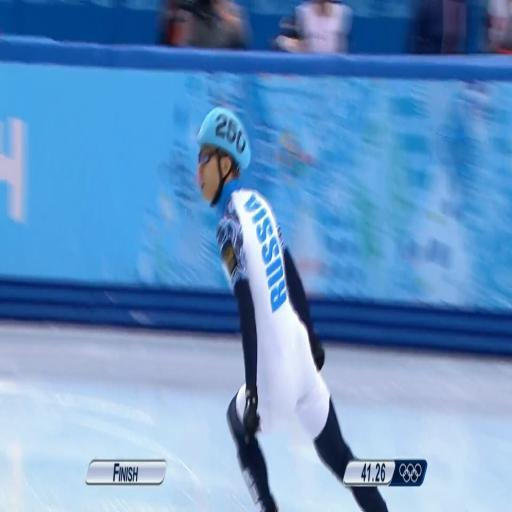Skater: (198, 108, 353, 511)
